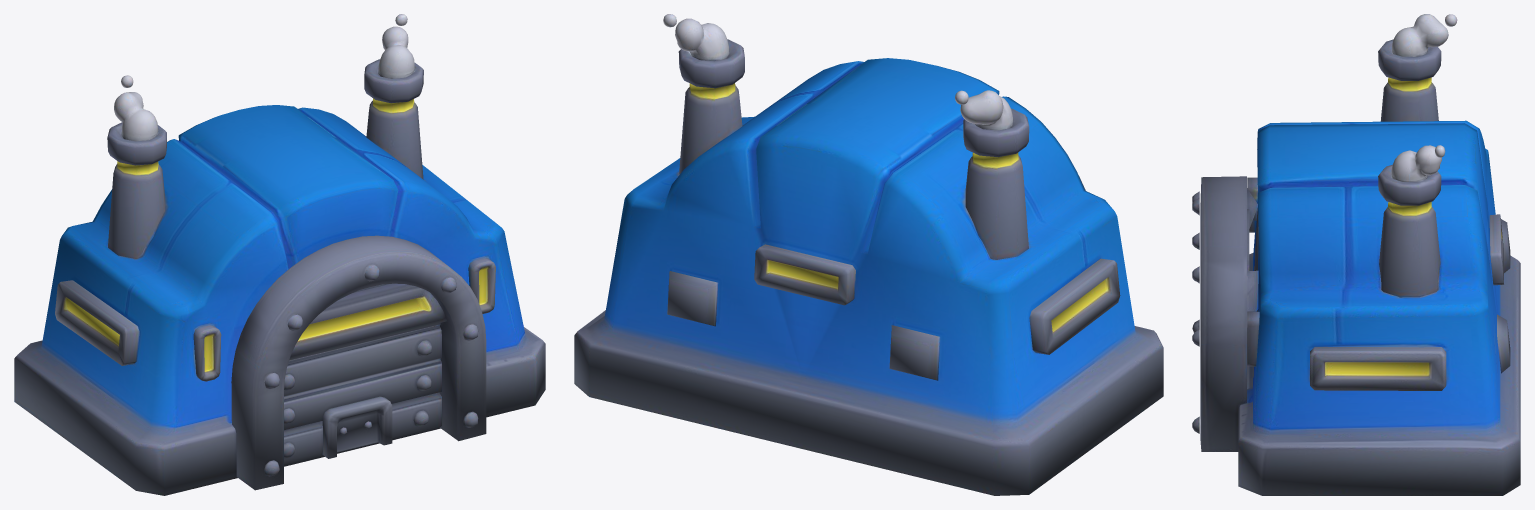
Rendered from barracks.glb.
3 renders of one model, left to right at view 1: azimuth 30°, elevation 25°; view 2: azimuth 150°, elevation 25°; view 3: azimuth 270°, elevation 25°, orthographic. The views are drawn at different scales.
Visible parts, largest first — view 1: tripo_node_459254f0-cfd5-4b40-83e4-ebbd3b46ce0e; view 2: tripo_node_459254f0-cfd5-4b40-83e4-ebbd3b46ce0e; view 3: tripo_node_459254f0-cfd5-4b40-83e4-ebbd3b46ce0e.
Part boxes in pixels (x1=…): tripo_node_459254f0-cfd5-4b40-83e4-ebbd3b46ce0e: x1=14, y1=14, x2=545, y2=495; tripo_node_459254f0-cfd5-4b40-83e4-ebbd3b46ce0e: x1=574, y1=14, x2=1163, y2=495; tripo_node_459254f0-cfd5-4b40-83e4-ebbd3b46ce0e: x1=1192, y1=14, x2=1520, y2=495.
Size of the model in its own units: 4.2 by 3.18 by 2.91.
1 material, 1 textured.
